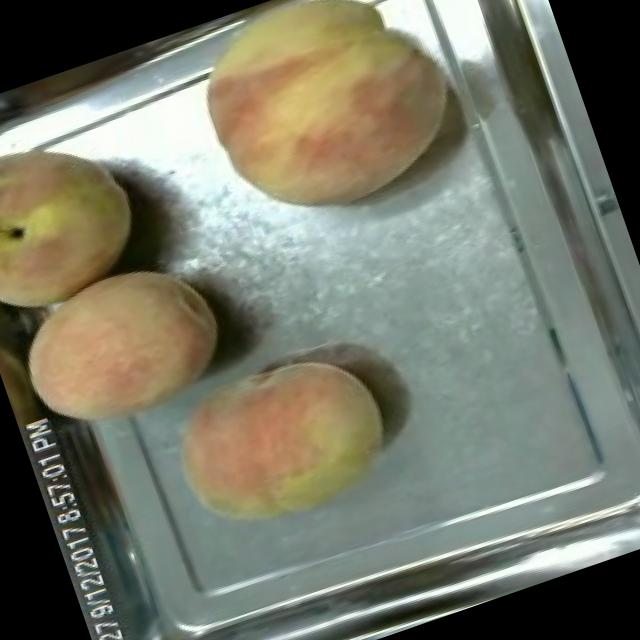Fruit: (166, 0, 482, 250), (148, 322, 412, 552), (0, 232, 249, 457), (0, 89, 168, 337)
